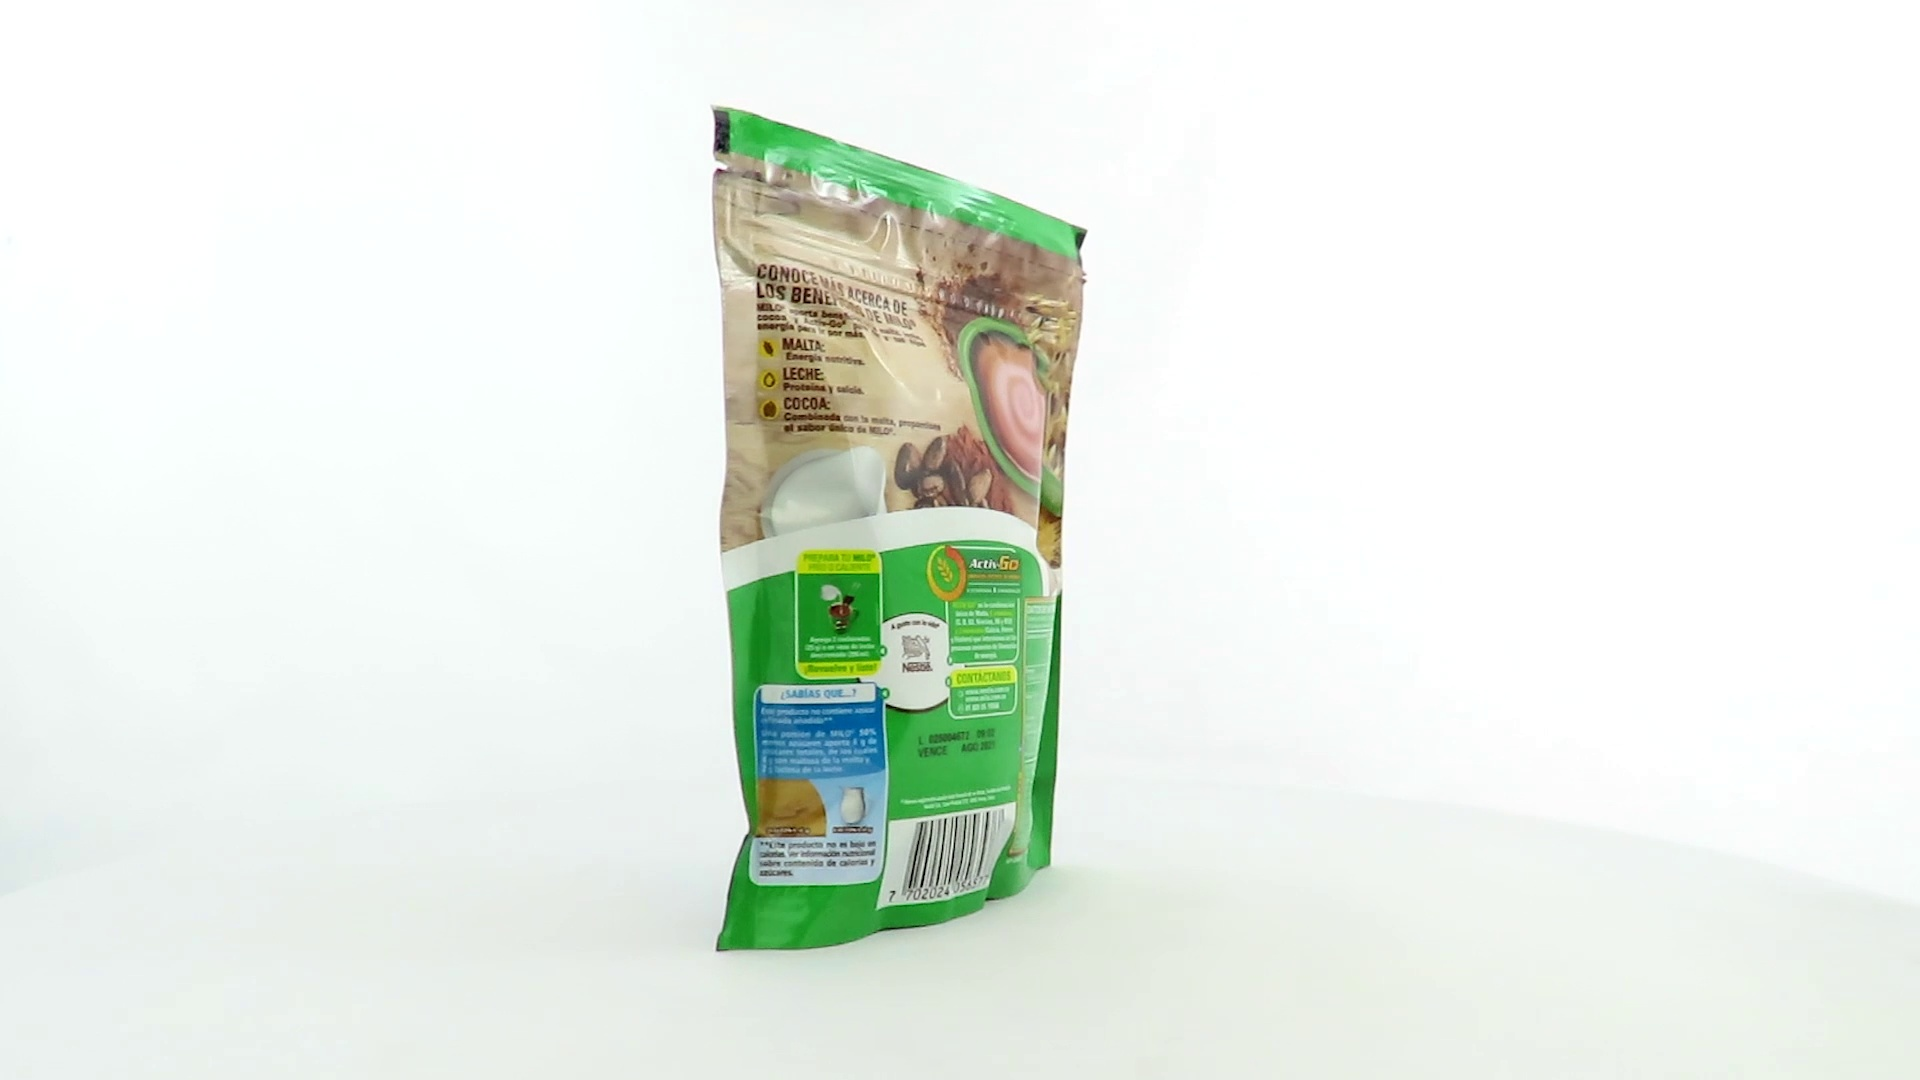COL0170205DYP20000: (705, 99, 1095, 957)
